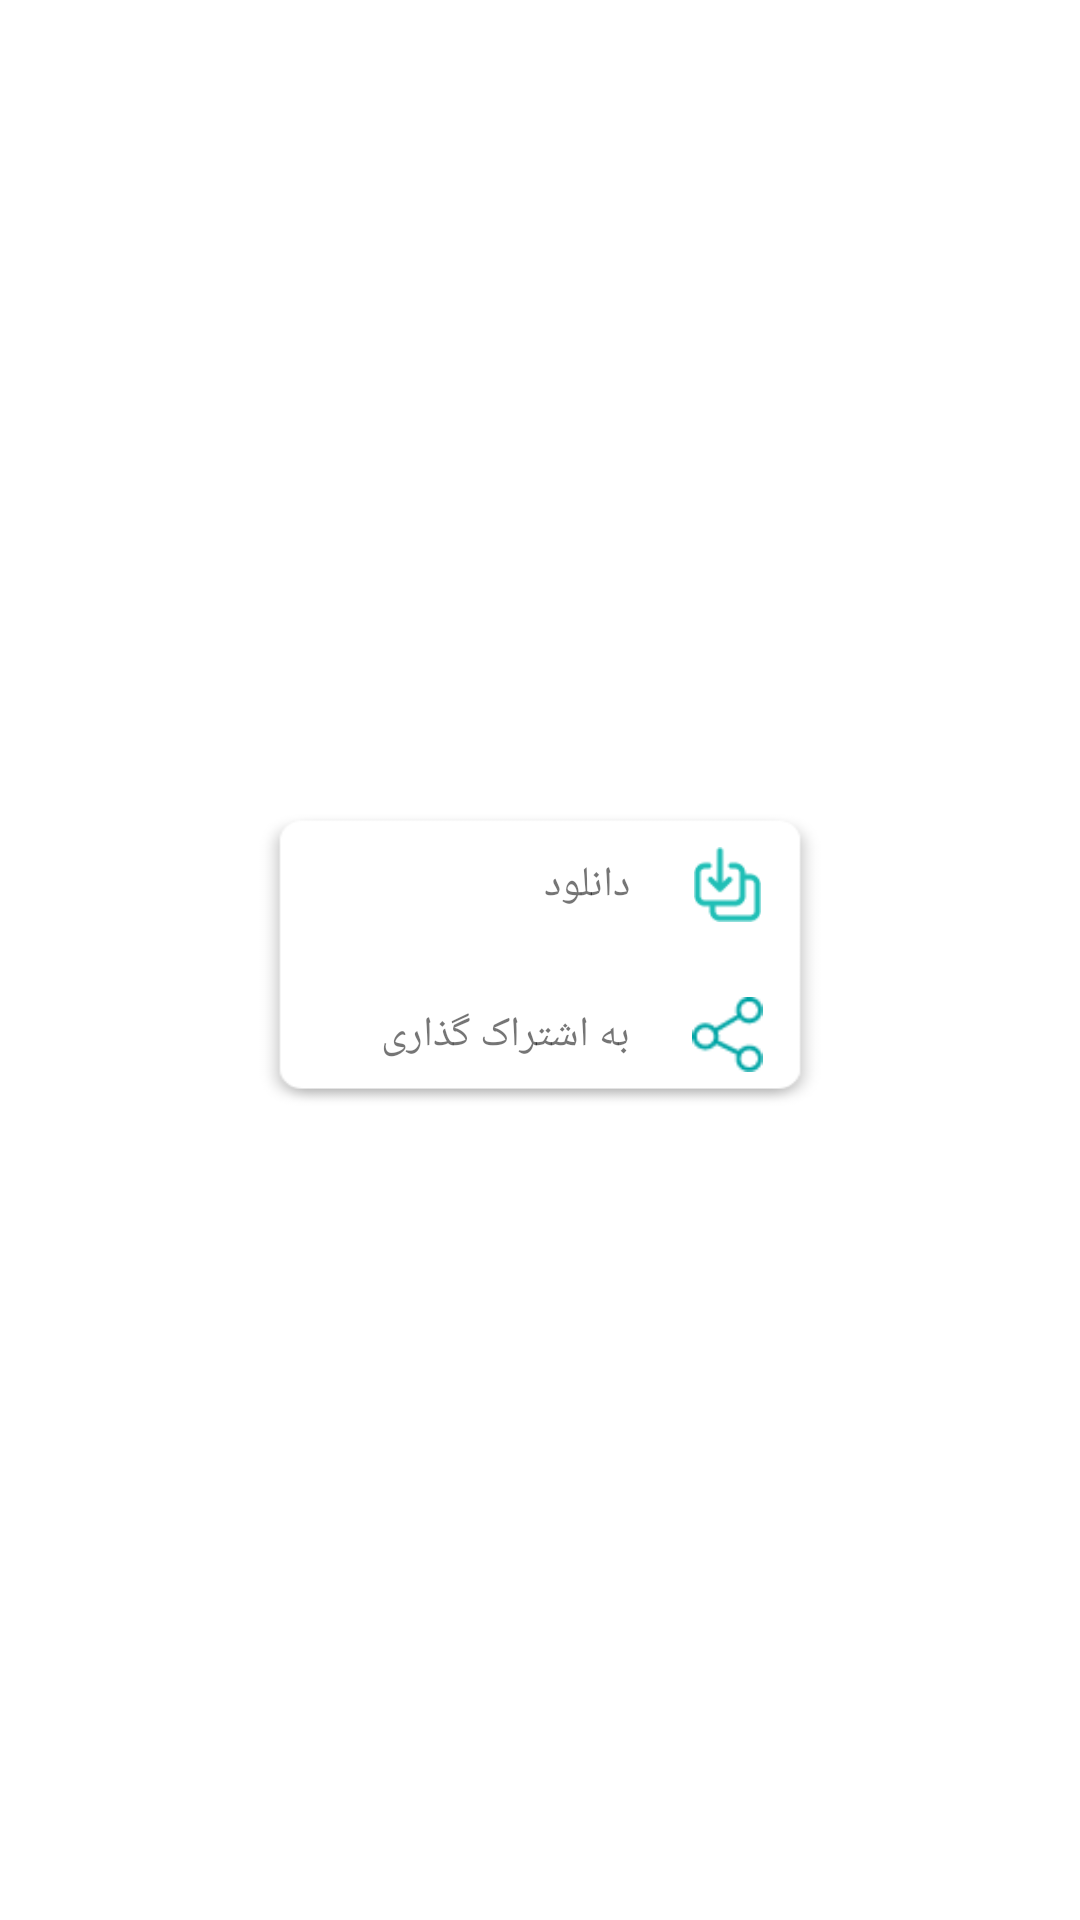

Point at icon controls on the screen. Image size 1080px×1920px, points as [x,y].
down popup: [727,884]
share greenn: [727,1034]
